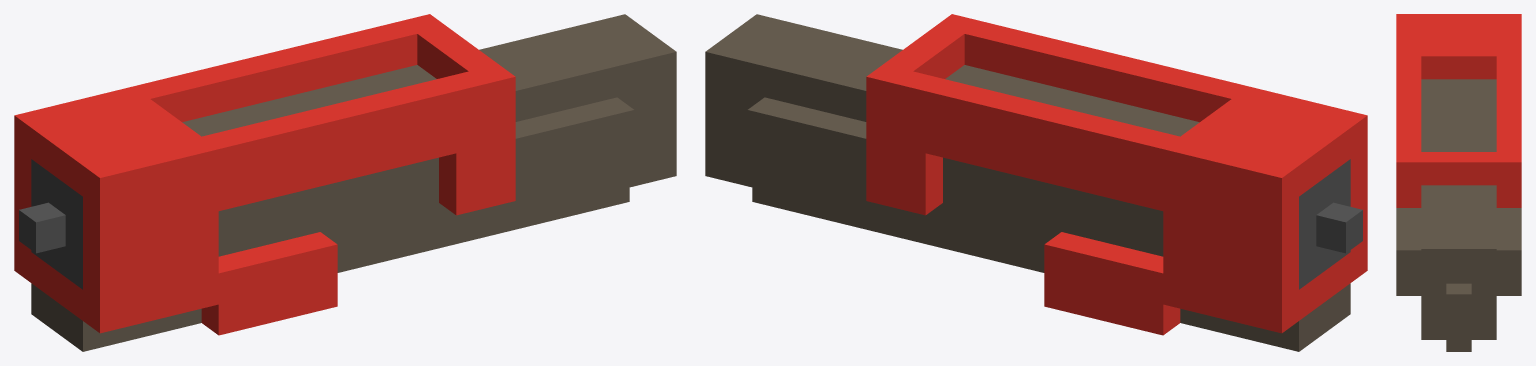
File: WeaponBarrel#2.obj
The picture shows the model from 3 angles, left to right: view 1: azimuth 30°, elevation 25°; view 2: azimuth 150°, elevation 25°; view 3: azimuth 270°, elevation 25°; orthographic projection. The views are drawn at different scales.
Bounding box in the file's own units: 2.1 × 0.6 × 0.5.
Materials: 1 (1 with a texture image).
